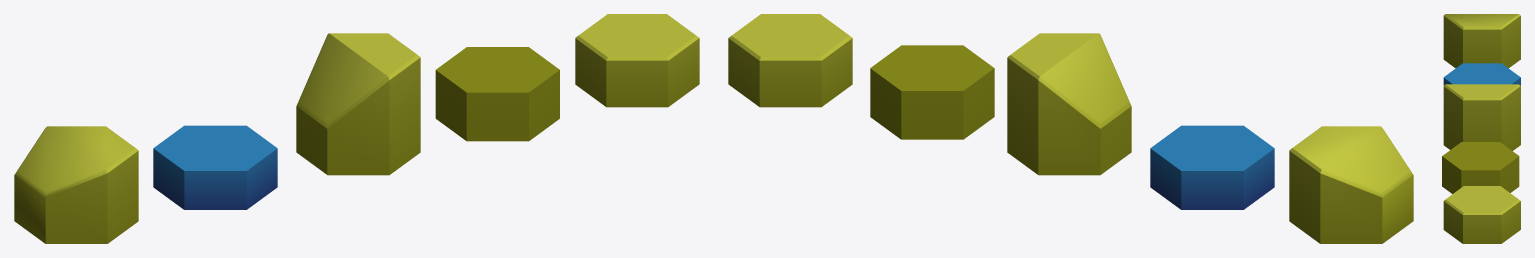
The model's file is worldBlocks-v2.glb.
The picture shows the model from 3 angles, left to right: view 1: azimuth 30°, elevation 25°; view 2: azimuth 150°, elevation 25°; view 3: azimuth 270°, elevation 25°; orthographic projection. The views are drawn at different scales.
Parts seen in each view (by area): view 1: hex_grass_sloped_high, hex_grass_sloped_low, hex_grass_bottom, hex_grass, hex_watercolonly; view 2: hex_grass_sloped_high, hex_grass_sloped_low, hex_grass_bottom, hex_grass, hex_watercolonly; view 3: hex_grass_sloped_high, hex_grass, hex_grass_sloped_low, hex_grass_bottom, hex_watercolonly.
Part boxes in pixels (box(x1,y1,x2,y2)): hex_grass_sloped_high: box(296, 33, 420, 175); hex_grass_sloped_low: box(14, 126, 138, 243); hex_grass_bottom: box(435, 47, 559, 141); hex_grass: box(575, 14, 699, 107); hex_watercolonly: box(153, 125, 277, 209); hex_grass_sloped_high: box(1007, 33, 1131, 175); hex_grass_sloped_low: box(1289, 126, 1413, 243); hex_grass_bottom: box(870, 45, 994, 139); hex_grass: box(728, 14, 852, 107); hex_watercolonly: box(1150, 125, 1274, 209); hex_grass_sloped_high: box(1443, 84, 1520, 150); hex_grass: box(1443, 186, 1520, 243); hex_grass_sloped_low: box(1443, 14, 1520, 68); hex_grass_bottom: box(1442, 142, 1519, 193); hex_watercolonly: box(1443, 63, 1520, 85).
Size of what is drawn, in the model's own units: 14.02 by 2 by 2.35.
5 materials, 5 textured.
